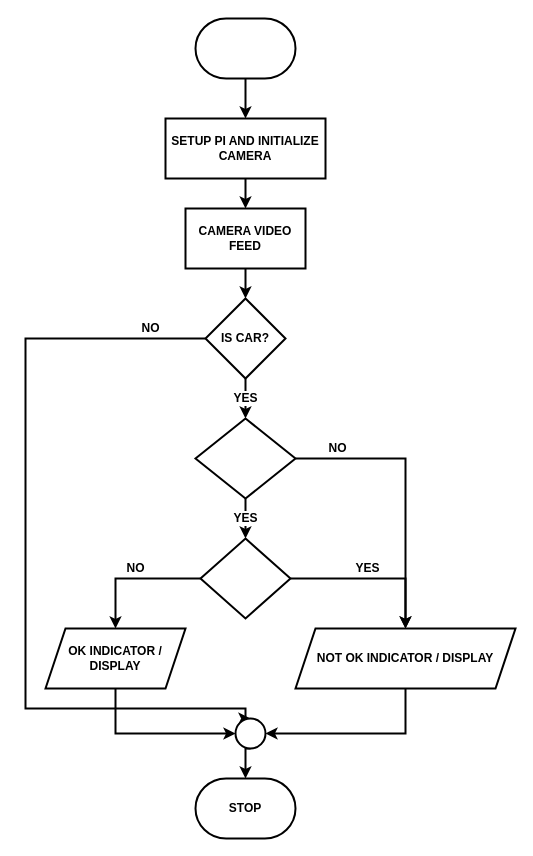
The diagram is 533 pixels wide and 856 high, and some of its shapes have lost their labels. Each missing label, with the centre of its shape:
"IS ON LANE?" goes at (245,458).
"IS ON LINE" goes at (245,578).
"START" goes at (245,48).
